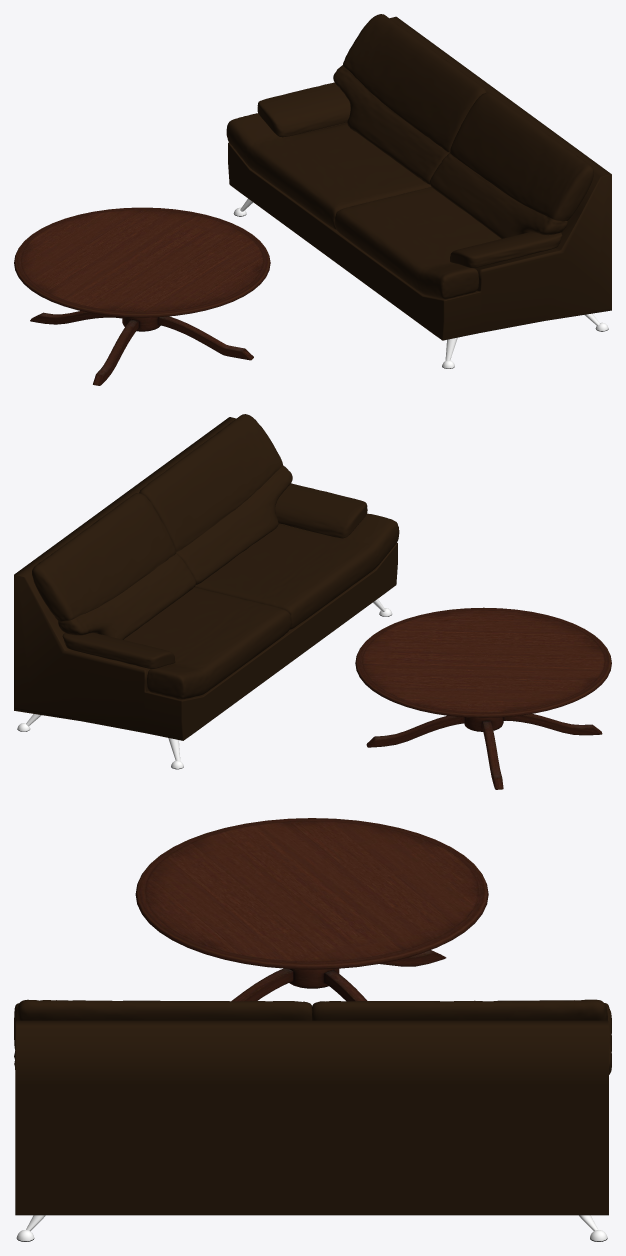
Rendered from lounge_corner.glb.
3 renders of one model, top to bottom at view 1: azimuth 30°, elevation 25°; view 2: azimuth 150°, elevation 25°; view 3: azimuth 270°, elevation 25°, orthographic. The views are drawn at different scales.
Parts seen in each view (by area): view 1: espaldar sofa, round_wooden_table_01, sofa-base, sofa-cojin, sofa-brazos; view 2: espaldar sofa, round_wooden_table_01, sofa-base, sofa-cojin, sofa-brazos; view 3: sofa-base, round_wooden_table_01, espaldar sofa.
Boxes of the visible parts, x1,y1,x2,y2 form: espaldar sofa: (333,14,593,238); round_wooden_table_01: (14,207,270,385); sofa-base: (228,16,611,368); sofa-cojin: (226,113,500,299); sofa-brazos: (257,82,562,267); espaldar sofa: (32,414,292,639); round_wooden_table_01: (355,607,611,789); sofa-base: (14,417,397,769); sofa-cojin: (124,513,399,699); sofa-brazos: (62,483,367,668); sofa-base: (15,1020,608,1241); round_wooden_table_01: (135,818,488,1001); espaldar sofa: (16,999,607,1020).
Size of the model in its own units: 2.53 by 0.8494 by 2.01.
Materials: 4 (1 with a texture image).
